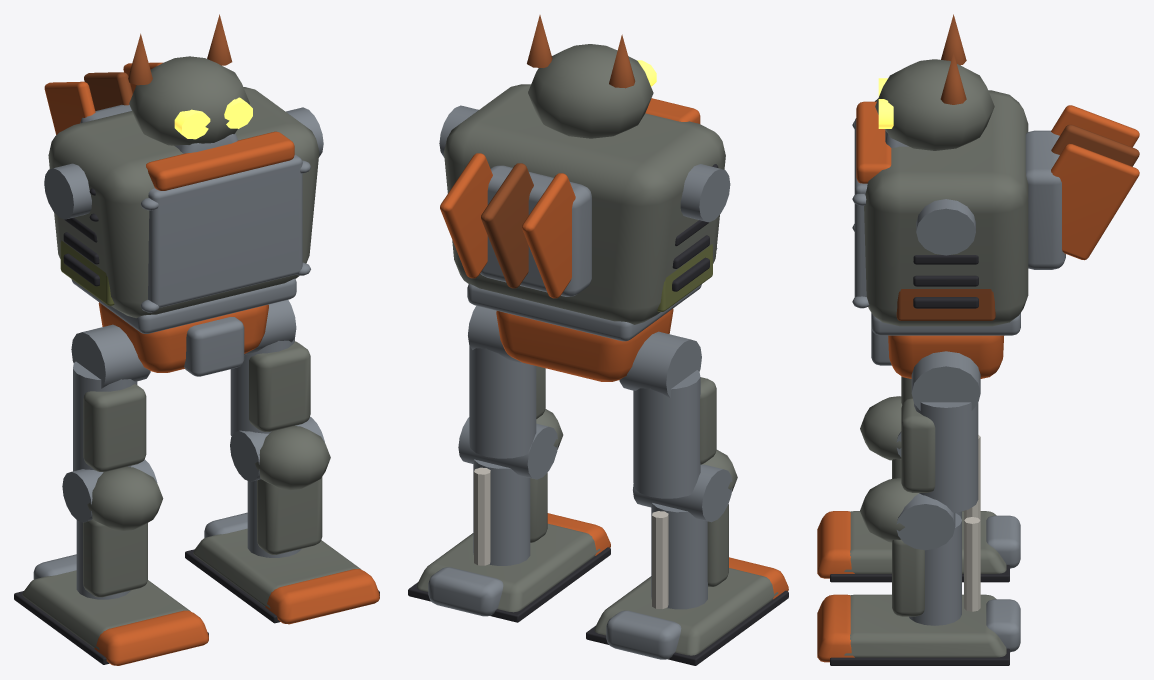
Rendered from ch_reaper.glb.
3 views of the same model, side by side, from view 1: azimuth 30°, elevation 25°; view 2: azimuth 150°, elevation 25°; view 3: azimuth 270°, elevation 25° (orthographic). The views are drawn at different scales.
Visible parts, largest first — view 1: ch_reaper, limb_leg_l, limb_leg_r; view 2: ch_reaper, limb_leg_l, limb_leg_r; view 3: ch_reaper, limb_leg_r, limb_leg_l.
Part boxes in pixels (<box>): ch_reaper: <box>44,14,323,376</box>; limb_leg_l: <box>14,324,208,665</box>; limb_leg_r: <box>185,300,379,624</box>; ch_reaper: <box>439,15,730,381</box>; limb_leg_l: <box>586,331,788,665</box>; limb_leg_r: <box>408,306,610,622</box>; ch_reaper: <box>852,14,1139,378</box>; limb_leg_r: <box>817,351,1020,665</box>; limb_leg_l: <box>817,376,1020,582</box>.
Bounding box in the file's own units: 0.4041 × 0.7843 × 0.4056.
